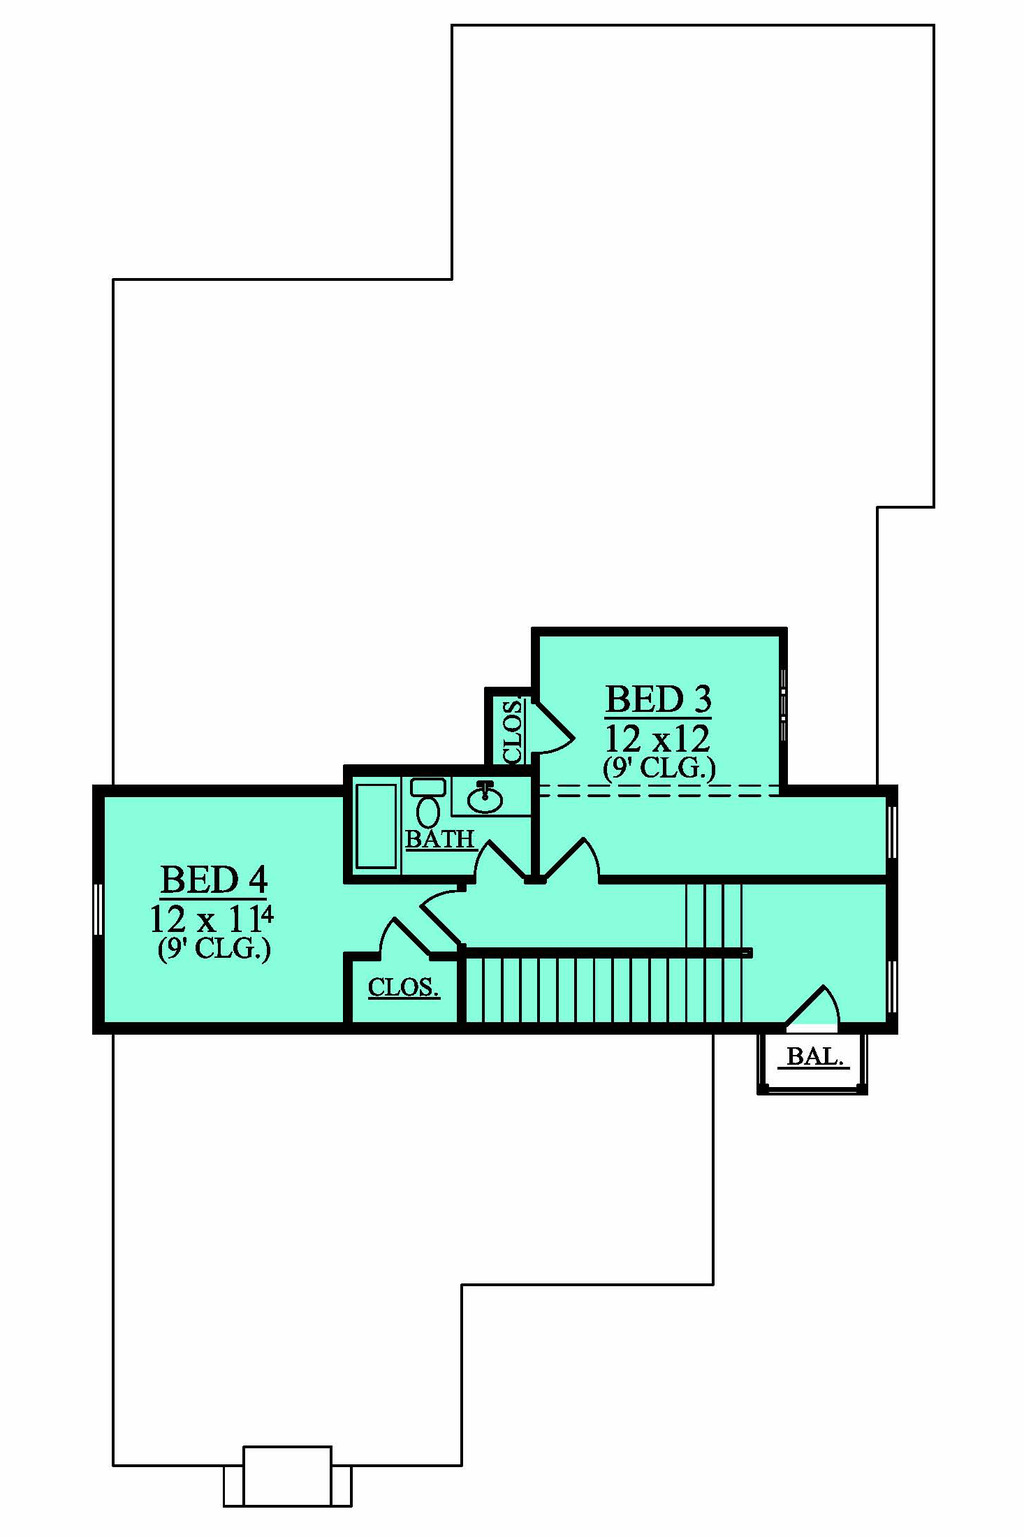door: (353, 916, 434, 970), (781, 984, 850, 1044), (425, 882, 483, 948), (533, 710, 587, 772), (469, 840, 534, 886), (550, 833, 606, 886)
large_sink: (406, 779, 450, 835)
small_sink: (457, 782, 533, 812)
stairs: (462, 879, 795, 1040)
tub: (343, 779, 411, 882)
window: (883, 948, 899, 1033), (88, 872, 106, 932)
